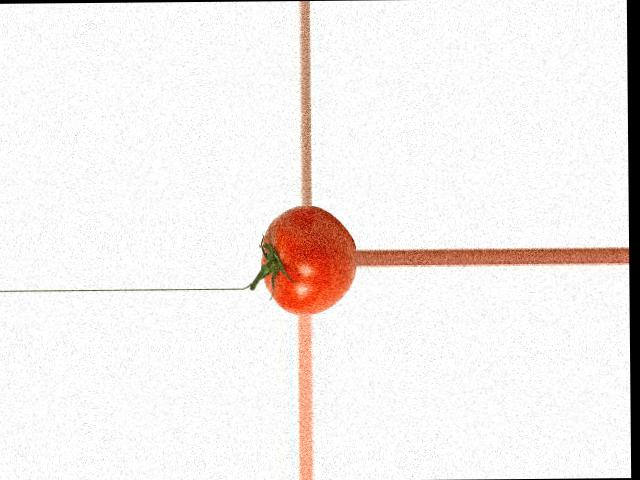tomato: (260, 204, 355, 314)
